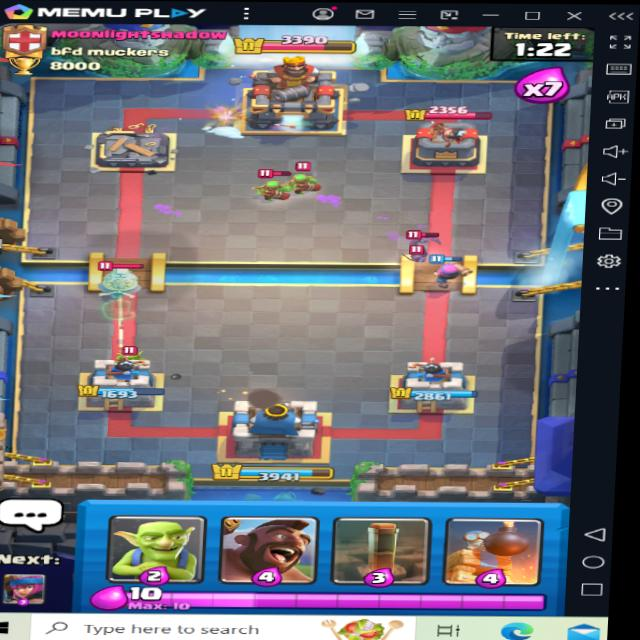Bat: (403, 245, 441, 270), (406, 230, 444, 249)
Goblin: (116, 338, 146, 365)
Monk: (84, 258, 151, 296)
Monkability: (84, 257, 160, 298)
Speargoblin: (254, 169, 298, 200), (280, 160, 319, 194)
